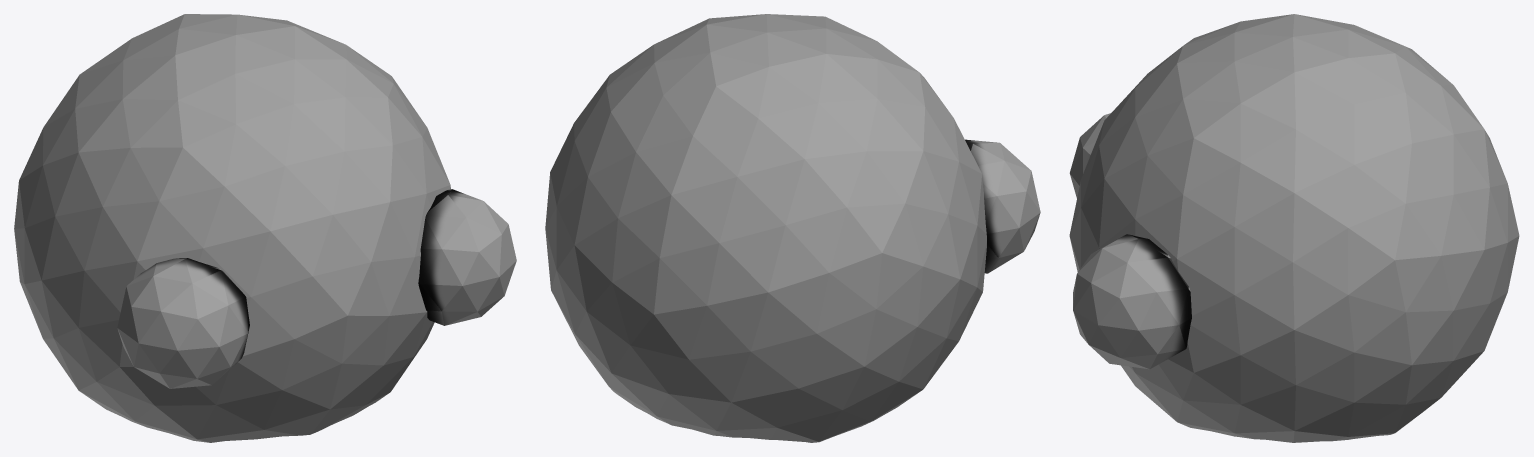
The model's file is persona.glb.
3 views of the same model, side by side, from view 1: azimuth 30°, elevation 25°; view 2: azimuth 150°, elevation 25°; view 3: azimuth 270°, elevation 25° (orthographic).
Parts seen in each view (by area): view 1: Icosphere, Icosphere.004, Icosphere.003; view 2: Icosphere, Icosphere.004; view 3: Icosphere, Icosphere.003, Icosphere.004.
Part boxes in pixels (x1,y1,x2,y2): Icosphere: (14, 14, 450, 442); Icosphere.004: (117, 258, 249, 388); Icosphere.003: (418, 189, 516, 325); Icosphere: (545, 14, 986, 442); Icosphere.004: (965, 139, 1040, 273); Icosphere: (1069, 14, 1519, 442); Icosphere.003: (1073, 234, 1191, 369); Icosphere.004: (1069, 113, 1110, 197).
Bounding box in the file's own units: 0.4794 × 0.4119 × 0.4813.
4 materials, 2 textured.
